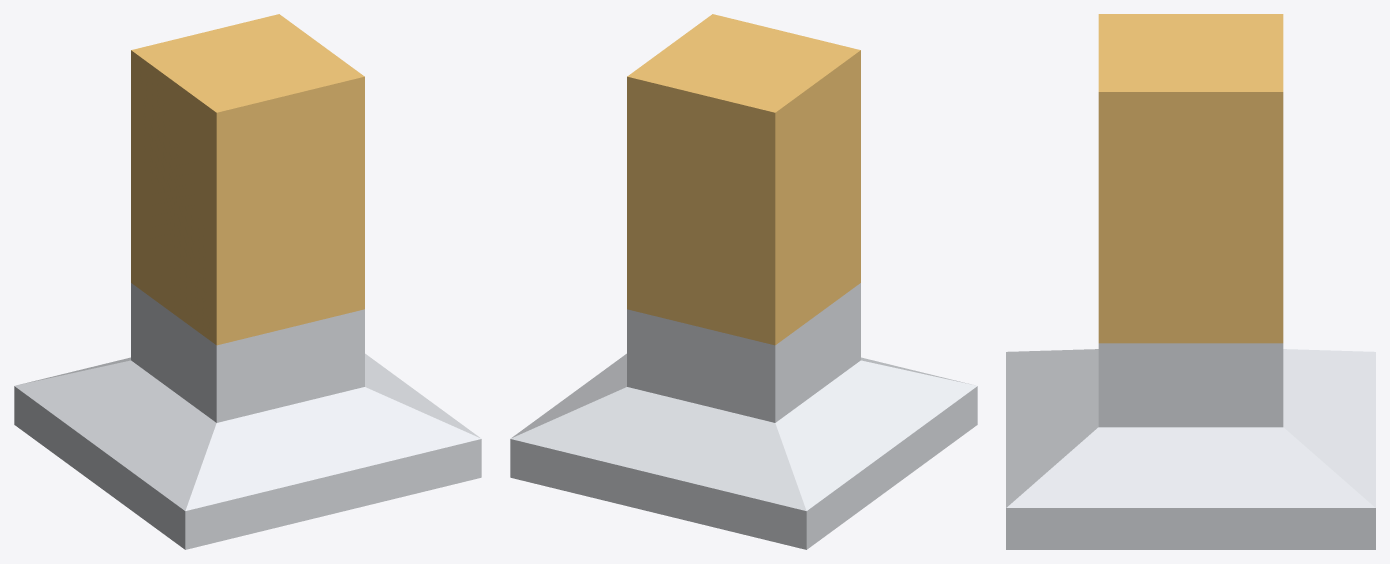
The model's file is pipe_supportLow.glb.
3 renders of one model, left to right at view 1: azimuth 30°, elevation 25°; view 2: azimuth 150°, elevation 25°; view 3: azimuth 270°, elevation 25°, orthographic. The views are drawn at different scales.
Visible parts, largest first — view 1: pipe_supportLow; view 2: pipe_supportLow; view 3: pipe_supportLow.
Part boxes in pixels (x1,y1,x2,y2): pipe_supportLow: (14,14,481,549); pipe_supportLow: (510,14,977,549); pipe_supportLow: (1006,14,1375,549).
Bounding box in the file's own units: 0.5616 × 0.702 × 0.5616.
